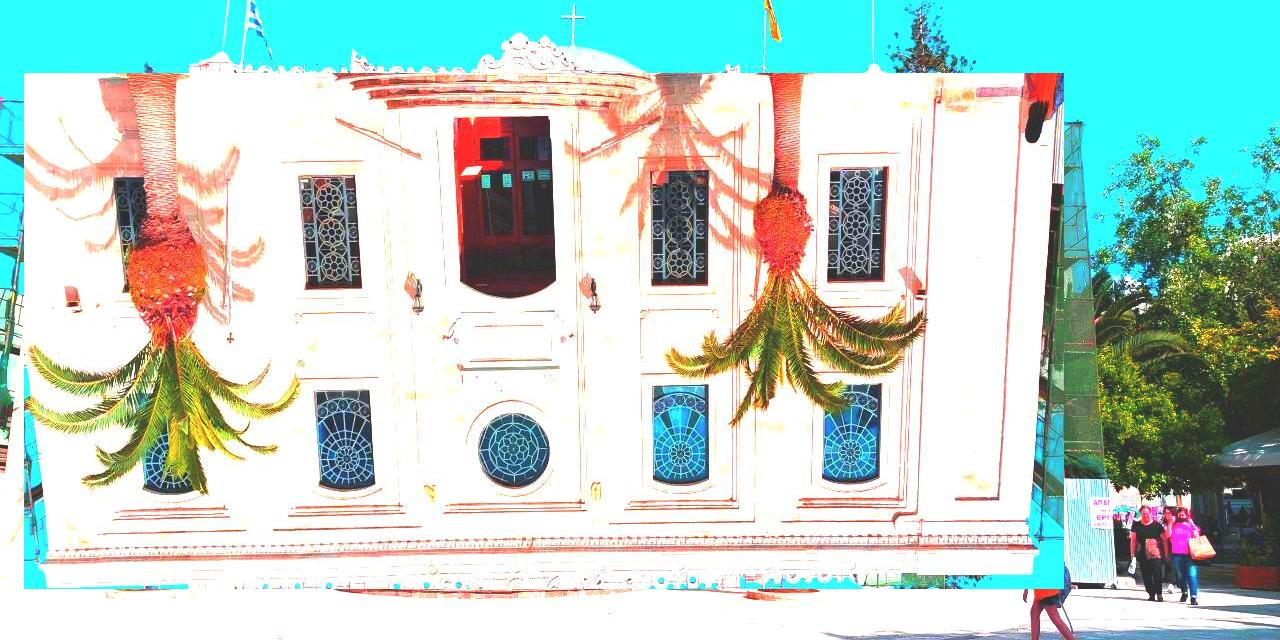Agios Titos: (25, 74, 1065, 590)
